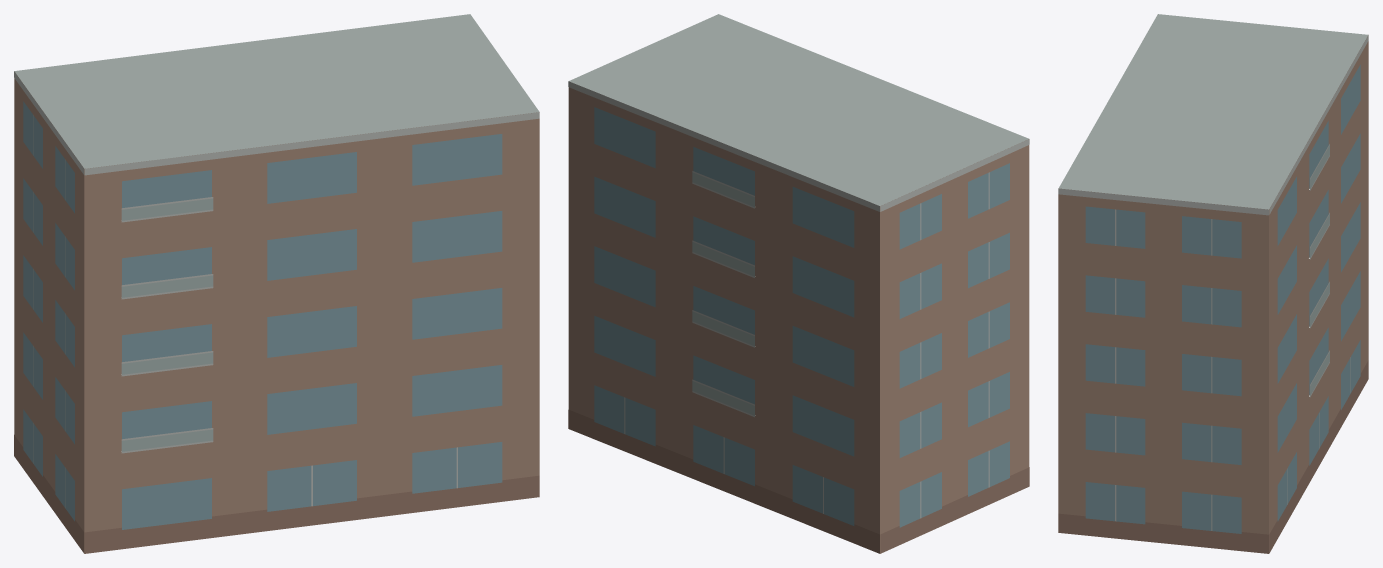
Rendered from survey-upis-33043375.glb.
3 renders of one model, left to right at view 1: azimuth 30°, elevation 25°; view 2: azimuth 150°, elevation 25°; view 3: azimuth 270°, elevation 25°, orthographic. The views are drawn at different scales.
Visible parts, largest first — view 1: survey-upis-33043375.tmp; view 2: survey-upis-33043375.tmp; view 3: survey-upis-33043375.tmp.
Part boxes in pixels (<box>): survey-upis-33043375.tmp: <box>14,14,539,553</box>; survey-upis-33043375.tmp: <box>568,14,1029,553</box>; survey-upis-33043375.tmp: <box>1058,14,1368,553</box>.
Size of the model in its own units: 17.3 by 14.2 by 11.6.
